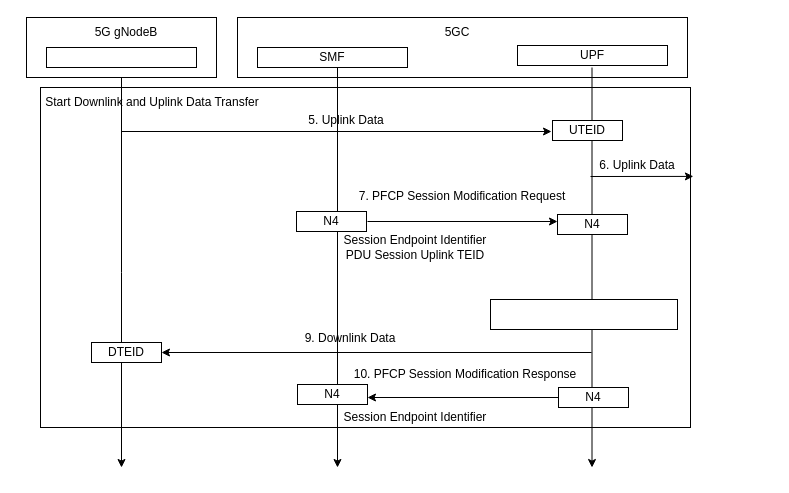
Some shapes in this 789 by 493 pixel diagram are drawn without their labels. Here are the shapes that lost their labels. From the top down, the box of each, then its label:
(46, 46, 196, 68): gNB
(490, 298, 678, 330): end 8: Buffer Downlink Data
